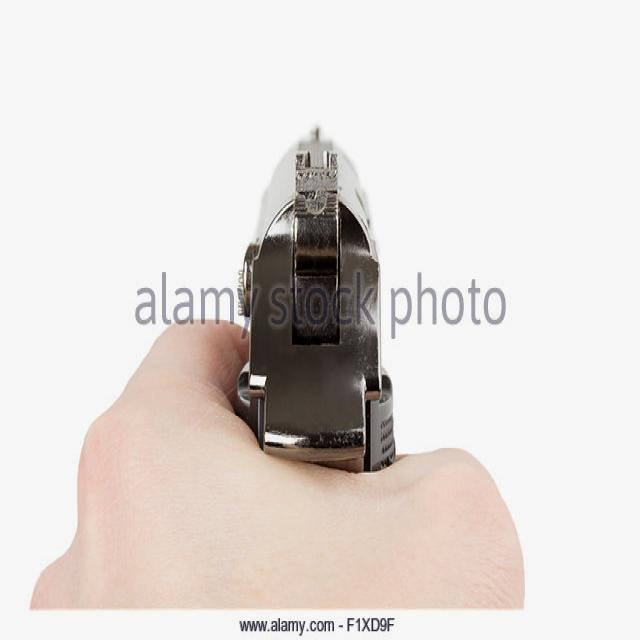pistol: (227, 112, 409, 474)
